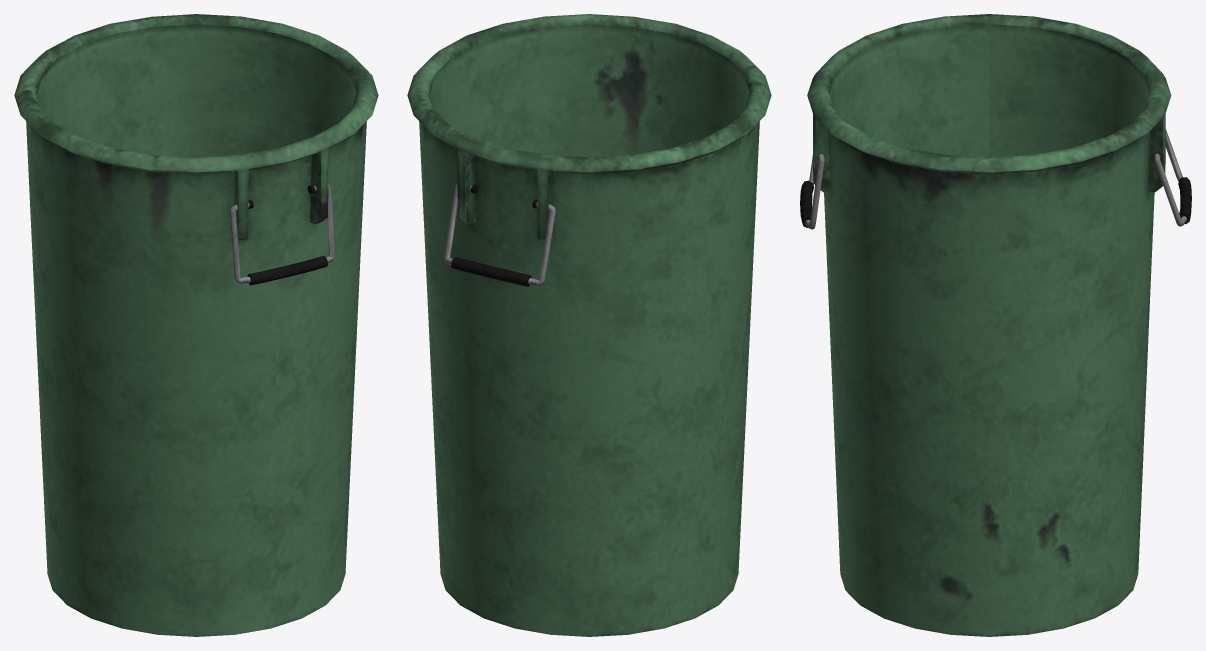
File: trashBin01_green.FBX
3 renders of one model, left to right at view 1: azimuth 30°, elevation 25°; view 2: azimuth 150°, elevation 25°; view 3: azimuth 270°, elevation 25°, orthographic.
Visible parts, largest first — view 1: SM_TrashBin; view 2: SM_TrashBin; view 3: SM_TrashBin.
Part boxes in pixels (x1=…): SM_TrashBin: x1=14, y1=14, x2=378, y2=636; SM_TrashBin: x1=407, y1=14, x2=771, y2=636; SM_TrashBin: x1=800, y1=14, x2=1191, y2=636.
Bounding box in the file's own units: 60.45 × 89.14 × 65.04.
1 material, 1 textured.
